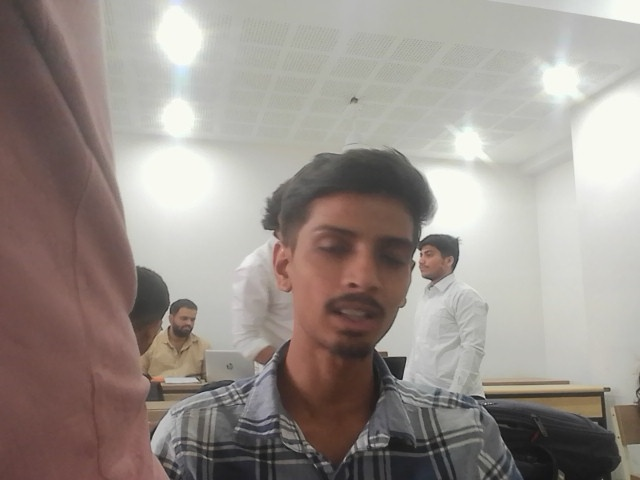light_on: (444, 178, 559, 296), (560, 80, 639, 127), (446, 119, 488, 151), (615, 5, 636, 25)
person: (143, 149, 523, 479), (0, 2, 165, 478), (213, 177, 296, 370), (134, 298, 208, 382)
